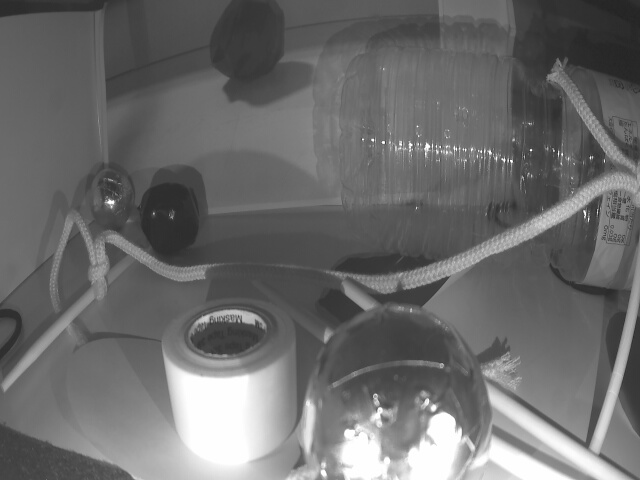Dead: (140, 186, 202, 254)
Live: (299, 296, 495, 480), (86, 169, 135, 229)
